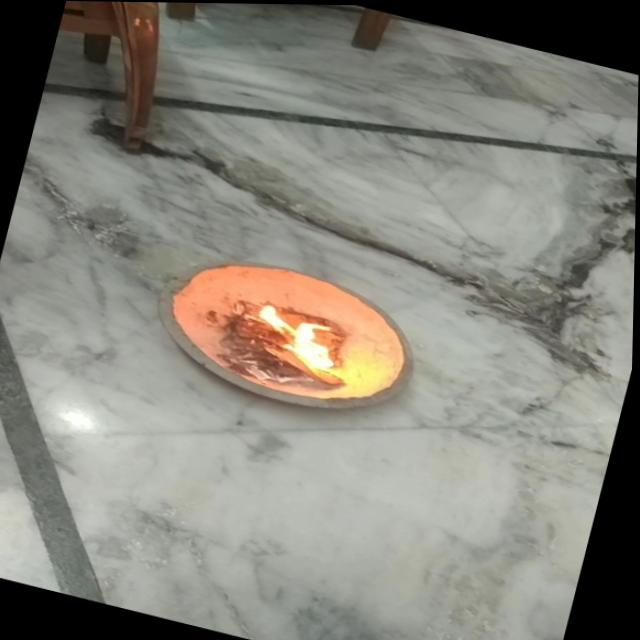fire: (237, 294, 367, 382)
